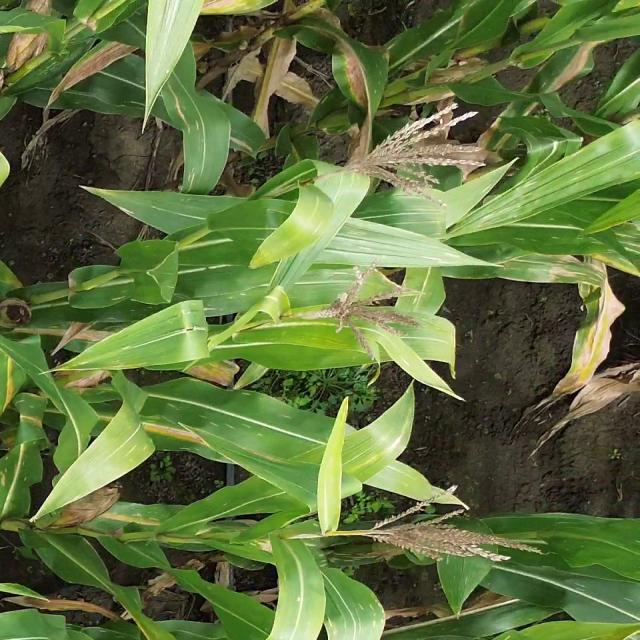gray-leaf-spot: (154, 390, 319, 477), (152, 79, 233, 197), (519, 220, 640, 294), (295, 577, 437, 640), (486, 108, 590, 185)
northern-leaf-blight: (297, 22, 408, 170)
southern-leaf-blight: (0, 378, 48, 515)
